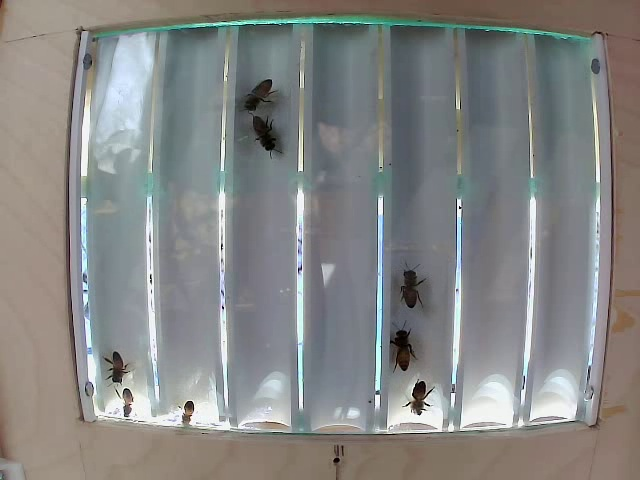bee: (381, 261, 442, 308), (381, 314, 425, 373), (230, 72, 274, 116), (399, 375, 440, 421), (243, 111, 278, 155)
